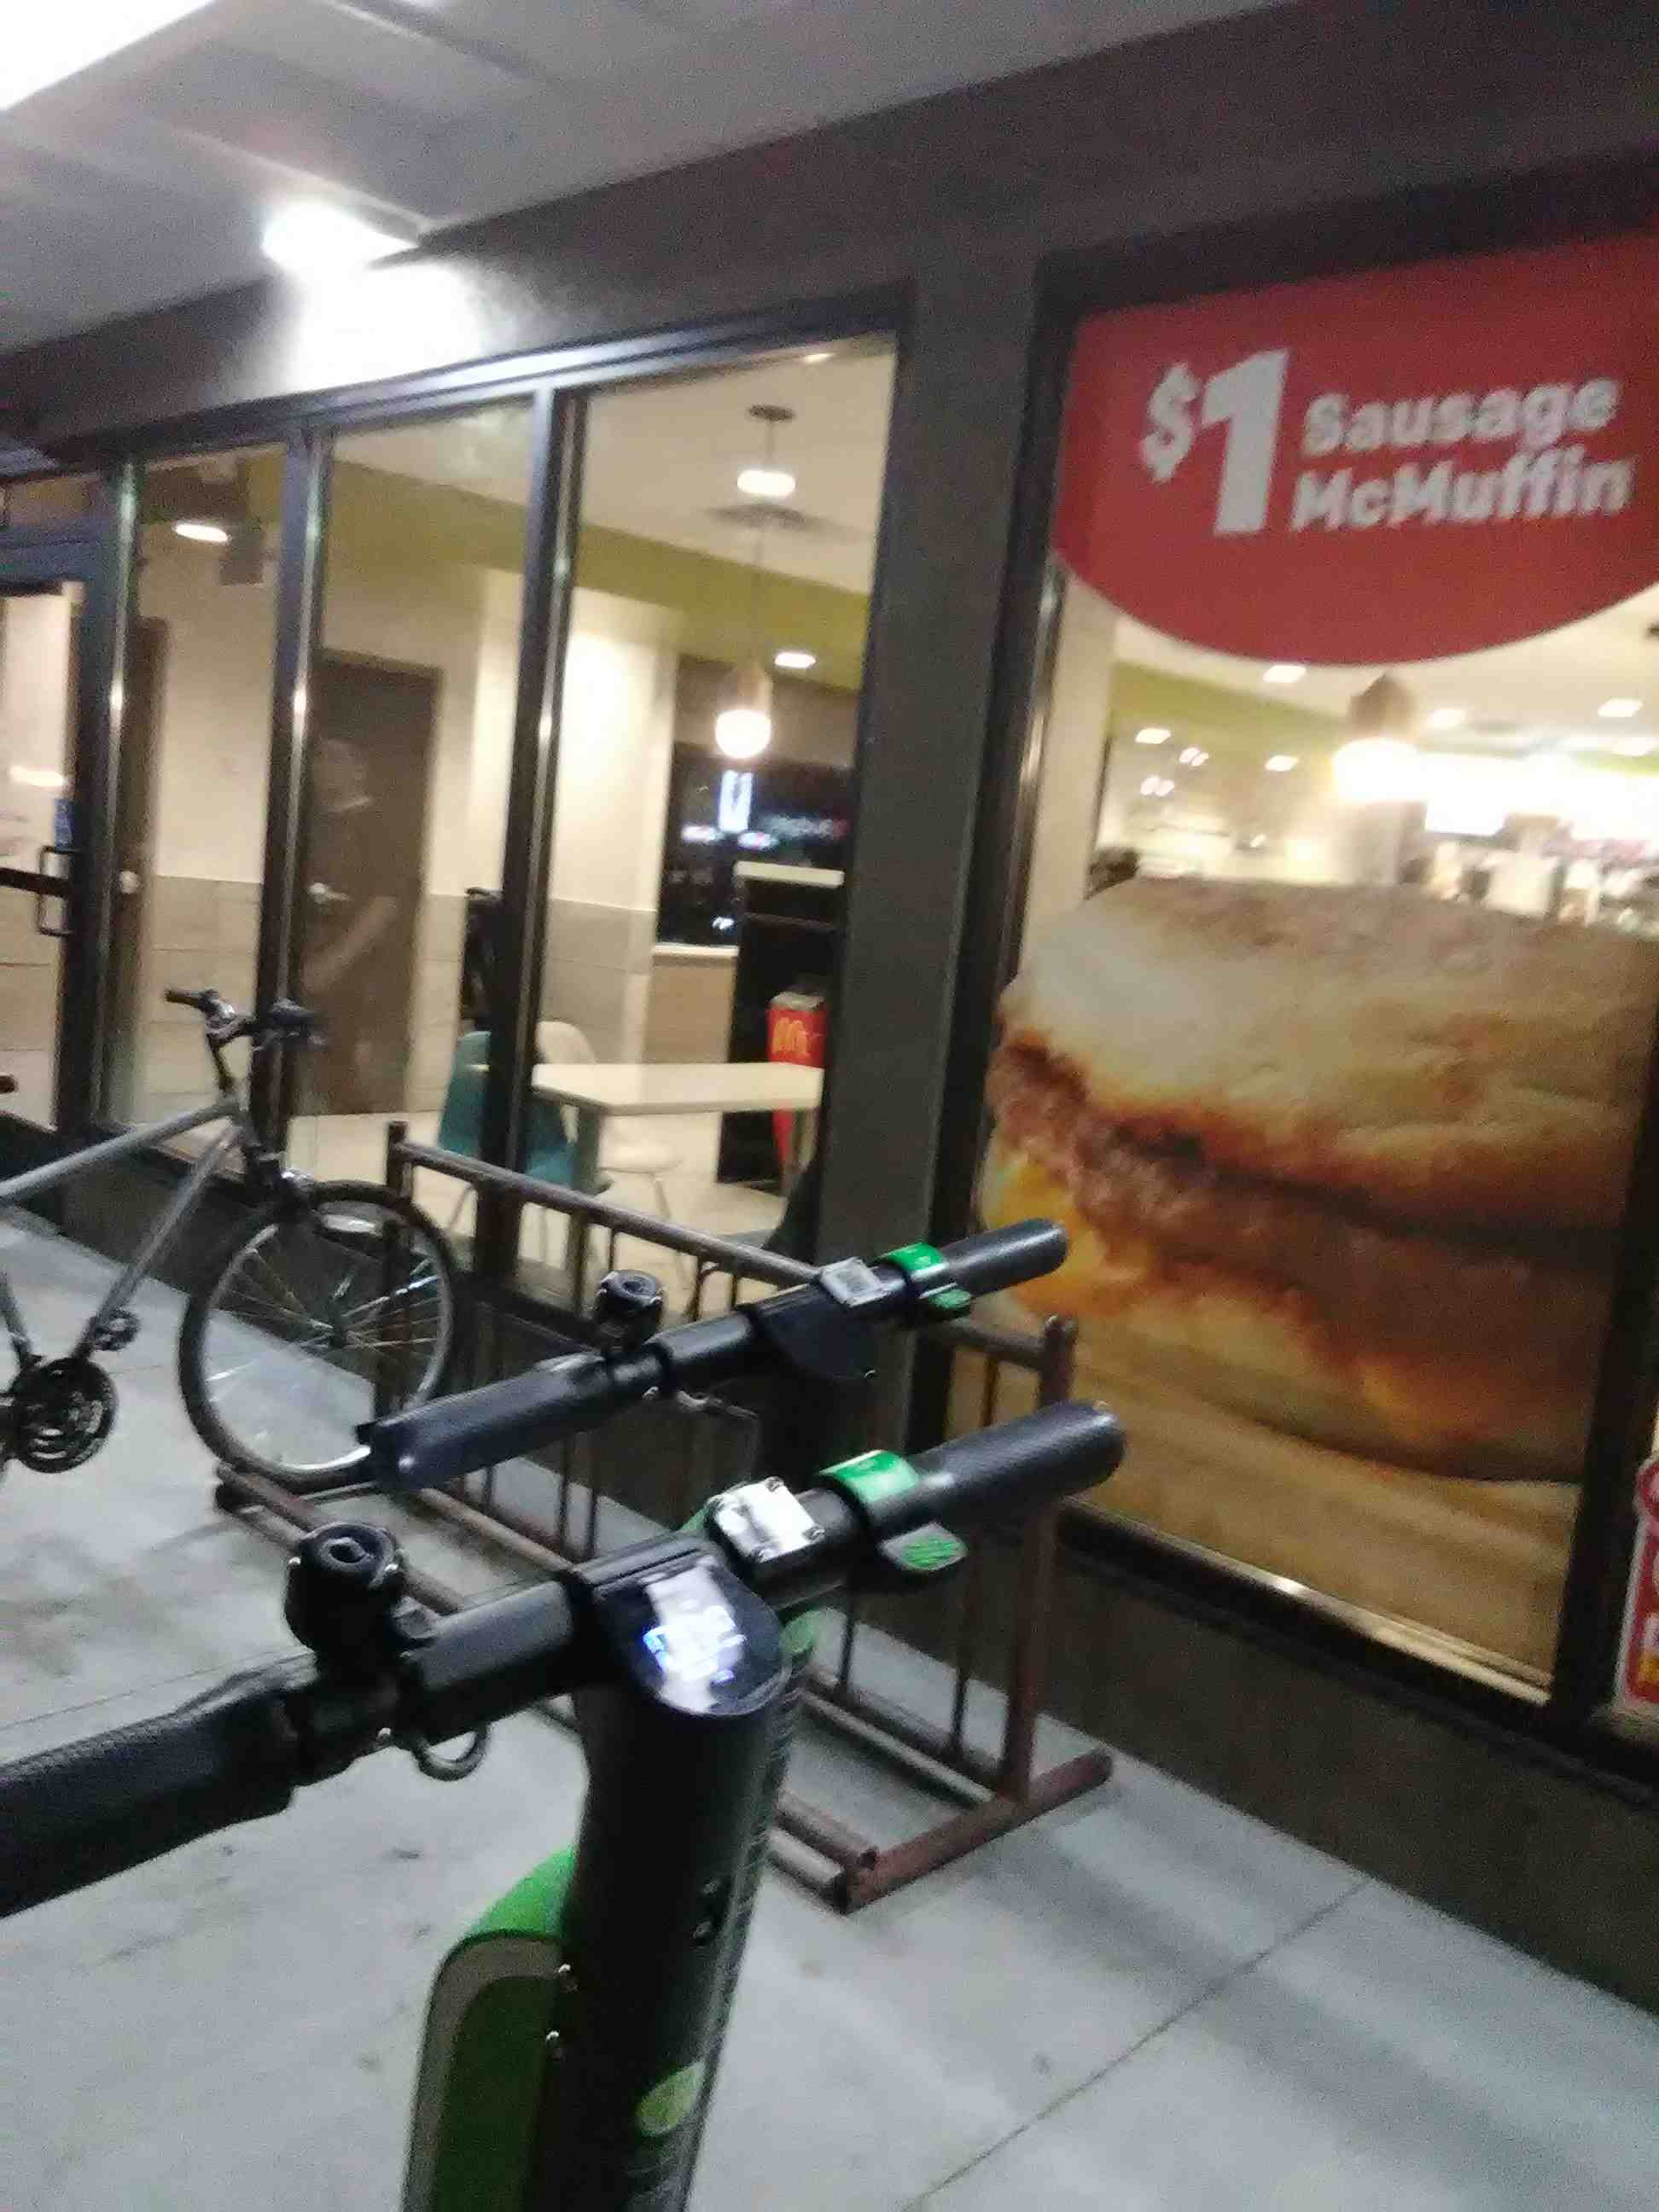scooter: (80, 1240, 1577, 2151)
